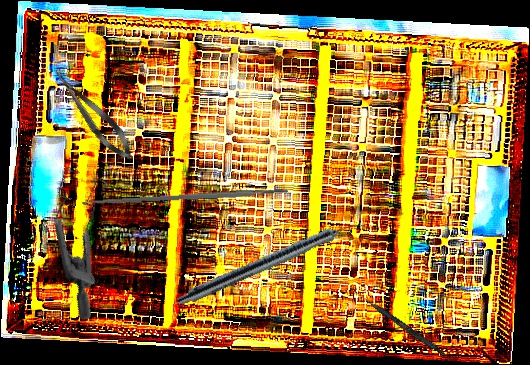Handpiece: (174, 212, 368, 313)
Micro Scissor: (47, 62, 139, 166)
Scalpel Handle: (88, 187, 289, 207)
Spatula Surgical: (349, 288, 460, 365)
Speculum: (6, 152, 165, 323)
